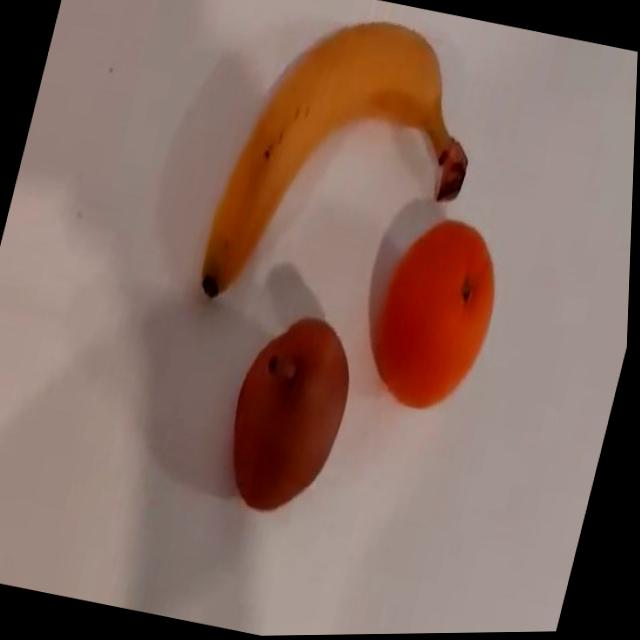Banana: (194, 0, 501, 346)
Orange: (358, 207, 516, 424)
